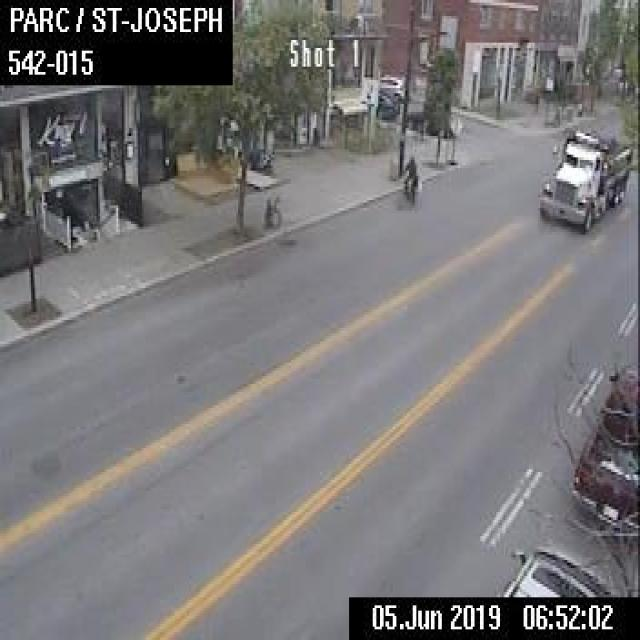cyclist: (401, 154, 417, 204)
vehicle: (569, 370, 638, 540), (536, 123, 633, 232), (491, 543, 627, 597), (378, 72, 404, 98), (376, 92, 398, 118)
